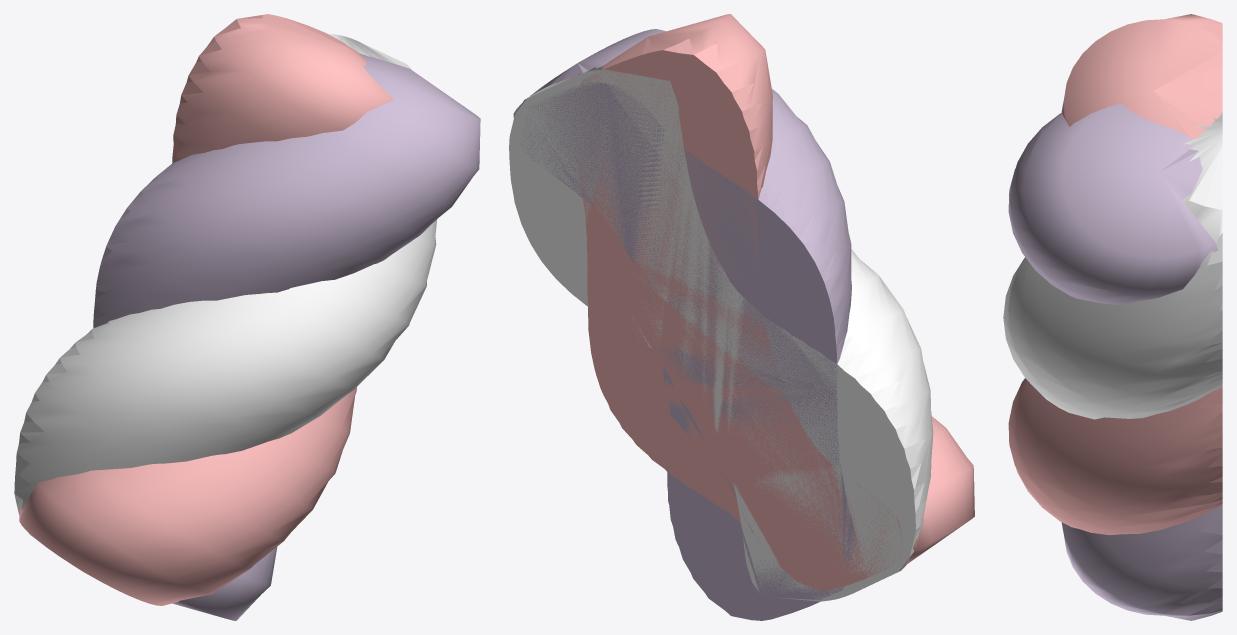
File: marshmallow.02.glb
3 views of the same model, side by side, from view 1: azimuth 30°, elevation 25°; view 2: azimuth 150°, elevation 25°; view 3: azimuth 270°, elevation 25° (orthographic). The views are drawn at different scales.
Parts seen in each view (by area): view 1: Circle.467; view 2: Circle.467; view 3: Circle.467.
Boxes of the visible parts, x1=… form: Circle.467: x1=14, y1=14, x2=480, y2=620; Circle.467: x1=509, y1=14, x2=974, y2=620; Circle.467: x1=1003, y1=14, x2=1222, y2=620.
Bounding box in the file's own units: 12.4 × 15.43 × 4.91.
